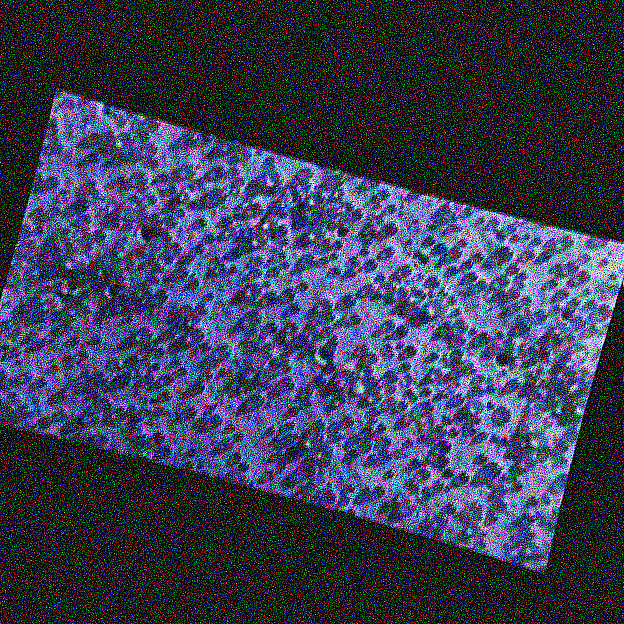GrassBeadSeg: (91, 131, 622, 545), (0, 225, 451, 526), (71, 217, 505, 508), (0, 287, 500, 522), (20, 222, 551, 442), (191, 131, 475, 534), (30, 294, 482, 532), (12, 325, 488, 547), (52, 225, 555, 426), (166, 131, 456, 477), (38, 241, 534, 437), (135, 199, 553, 429), (53, 141, 336, 478), (37, 205, 352, 501), (82, 213, 451, 464), (38, 232, 532, 419), (123, 164, 387, 495), (240, 147, 489, 490), (145, 192, 421, 489), (101, 200, 357, 514), (153, 253, 580, 434), (52, 246, 350, 504), (64, 96, 294, 425), (210, 195, 471, 482), (131, 255, 440, 491), (171, 241, 463, 477), (35, 310, 489, 461), (12, 344, 502, 476), (38, 175, 345, 383), (146, 115, 406, 353), (11, 136, 289, 354), (44, 128, 228, 455), (205, 231, 432, 495), (24, 268, 377, 436), (109, 217, 359, 451), (36, 144, 274, 385), (118, 300, 545, 434), (147, 156, 357, 426), (69, 151, 549, 268), (210, 186, 391, 461), (4, 299, 418, 419), (250, 200, 442, 451), (149, 152, 410, 335), (170, 172, 410, 371), (93, 254, 332, 447), (151, 218, 520, 343), (58, 189, 234, 450), (117, 291, 381, 461), (111, 268, 379, 432), (38, 415, 508, 506), (228, 145, 394, 402), (143, 341, 529, 450), (210, 225, 426, 419), (145, 139, 436, 281), (319, 259, 504, 470), (48, 173, 200, 415), (69, 259, 361, 379), (268, 168, 381, 464), (294, 405, 529, 538), (249, 340, 528, 450), (60, 139, 281, 274), (118, 175, 468, 259), (83, 193, 188, 461), (213, 164, 399, 308), (21, 130, 125, 379), (276, 223, 393, 444), (26, 238, 151, 443), (197, 217, 592, 281), (152, 180, 298, 351), (110, 357, 362, 456), (0, 341, 196, 466), (78, 384, 470, 437), (83, 264, 239, 395), (108, 303, 360, 383), (160, 171, 251, 385), (444, 249, 553, 424), (166, 222, 267, 406), (161, 321, 345, 420), (0, 326, 479, 364), (284, 221, 515, 298), (342, 292, 453, 452), (157, 185, 279, 330), (64, 274, 427, 320), (134, 170, 264, 294), (276, 355, 462, 441), (238, 367, 394, 469), (136, 166, 316, 252), (120, 225, 426, 275), (79, 273, 207, 391), (322, 301, 391, 508), (314, 275, 442, 384), (415, 218, 549, 319), (235, 154, 277, 471), (334, 404, 511, 476), (384, 238, 469, 383), (286, 187, 397, 292), (39, 406, 460, 433), (139, 325, 325, 386), (39, 295, 256, 347), (269, 289, 390, 382), (134, 163, 198, 334), (91, 410, 375, 445), (90, 180, 191, 276), (140, 242, 207, 376), (227, 418, 347, 488), (280, 210, 432, 265), (464, 422, 536, 537), (122, 205, 196, 315), (147, 131, 196, 293), (436, 306, 516, 401), (311, 251, 376, 367), (95, 389, 209, 454), (12, 198, 107, 276), (131, 409, 311, 450), (34, 233, 151, 295), (451, 222, 551, 289), (197, 148, 288, 218), (500, 306, 592, 374), (152, 215, 179, 442), (433, 296, 533, 356), (38, 376, 296, 399), (456, 294, 572, 344), (260, 246, 337, 321), (427, 472, 544, 521), (442, 284, 482, 420), (453, 217, 557, 267), (201, 414, 277, 478), (493, 401, 570, 462), (497, 232, 565, 298), (487, 346, 559, 408), (55, 139, 114, 214), (563, 252, 619, 330), (324, 202, 374, 289), (367, 203, 470, 245), (62, 321, 113, 405), (230, 183, 304, 240), (234, 426, 318, 475), (77, 326, 207, 355), (562, 268, 620, 330), (413, 413, 483, 464), (386, 342, 455, 393), (499, 266, 623, 294), (124, 131, 163, 220), (193, 234, 265, 282), (427, 225, 476, 295), (279, 426, 338, 483), (356, 399, 435, 439), (236, 388, 295, 441), (545, 333, 586, 407), (308, 393, 378, 436), (370, 213, 414, 281), (550, 234, 611, 282), (463, 215, 494, 309), (292, 313, 364, 353), (484, 409, 538, 461), (91, 422, 228, 442), (284, 321, 338, 371), (206, 326, 259, 376), (408, 351, 466, 396), (365, 462, 421, 507), (62, 186, 103, 242), (37, 123, 63, 211), (470, 503, 536, 537), (172, 163, 202, 236), (16, 324, 70, 362), (520, 235, 559, 286), (180, 177, 246, 207), (207, 375, 273, 405), (299, 443, 332, 502), (524, 491, 559, 546), (552, 365, 589, 417), (403, 455, 453, 493), (265, 244, 311, 285), (0, 398, 80, 421), (279, 214, 334, 247), (59, 409, 117, 440), (331, 188, 391, 217), (103, 361, 161, 391), (399, 490, 453, 522), (463, 318, 486, 392), (237, 430, 276, 473), (451, 205, 475, 273), (79, 207, 111, 258), (245, 332, 271, 394), (310, 191, 343, 239), (104, 139, 130, 199), (76, 181, 126, 212), (299, 252, 335, 290), (6, 298, 60, 323), (383, 251, 413, 294), (402, 407, 429, 453), (23, 389, 68, 416), (501, 343, 540, 374), (408, 394, 471, 412), (244, 300, 302, 319), (398, 279, 436, 307), (349, 214, 371, 261), (52, 112, 120, 127), (352, 245, 396, 268), (411, 301, 451, 326), (183, 281, 215, 310), (267, 215, 290, 254), (292, 179, 327, 204), (128, 226, 163, 251), (554, 323, 600, 342), (147, 261, 170, 299), (130, 377, 156, 410), (302, 463, 334, 486), (335, 389, 384, 404), (160, 229, 177, 272), (192, 271, 209, 313), (471, 489, 503, 511), (12, 271, 60, 284), (370, 395, 399, 415), (442, 321, 468, 343), (359, 343, 380, 370), (272, 348, 295, 371), (474, 382, 497, 405), (364, 365, 380, 397), (59, 280, 84, 300), (301, 394, 339, 407), (423, 486, 445, 508), (123, 122, 152, 138), (504, 484, 535, 498), (63, 235, 96, 248), (317, 429, 323, 497), (46, 299, 85, 309), (170, 184, 192, 200), (26, 310, 36, 344), (110, 253, 147, 262), (252, 296, 259, 338), (267, 405, 293, 416), (318, 489, 338, 503), (492, 432, 511, 445), (532, 463, 538, 501), (320, 429, 348, 437), (6, 314, 24, 325), (254, 231, 269, 244), (136, 295, 149, 308), (10, 395, 66, 398), (115, 112, 127, 125), (407, 388, 420, 400), (323, 304, 334, 318), (134, 365, 159, 371), (445, 501, 458, 512), (45, 295, 58, 305), (235, 386, 250, 394), (471, 397, 486, 405), (108, 249, 121, 257), (302, 386, 315, 393), (135, 371, 150, 377), (420, 287, 428, 296), (265, 289, 271, 301), (497, 482, 507, 488), (471, 406, 483, 411), (522, 457, 529, 465), (147, 255, 158, 260), (150, 371, 157, 377), (8, 405, 15, 411), (140, 365, 145, 373), (324, 298, 334, 302), (10, 391, 17, 396), (11, 397, 19, 401), (255, 239, 261, 244), (19, 392, 23, 398), (67, 391, 69, 397)
